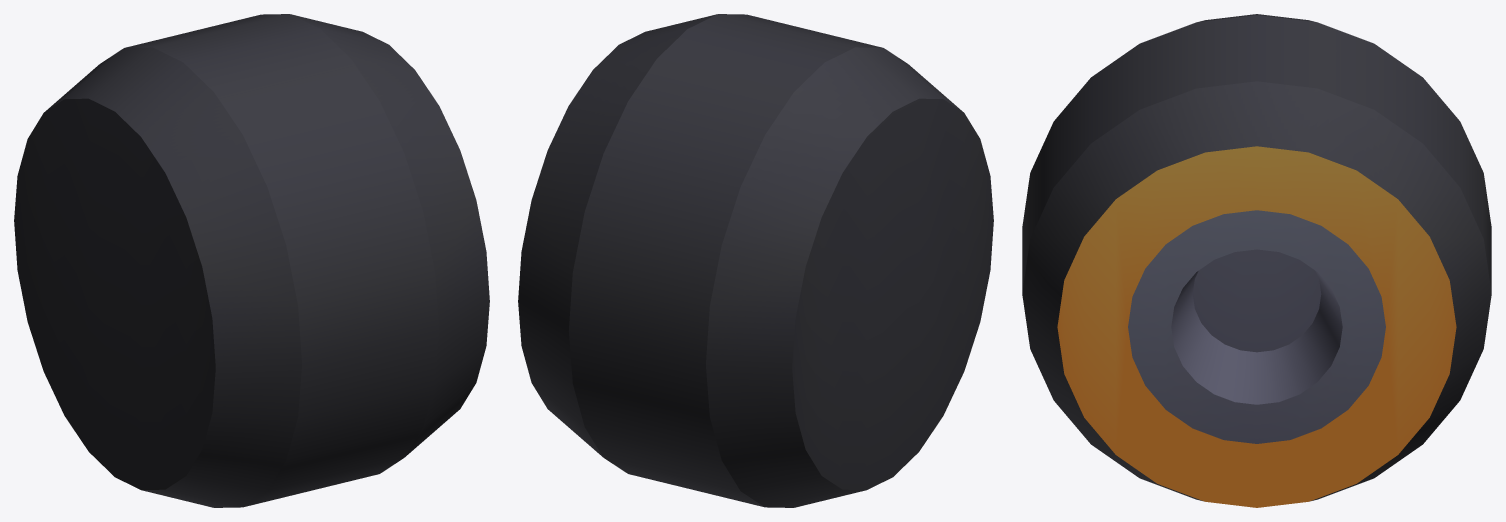
The model's file is wheel-racing.glb.
3 views of the same model, side by side, from view 1: azimuth 30°, elevation 25°; view 2: azimuth 150°, elevation 25°; view 3: azimuth 270°, elevation 25° (orthographic).
Visible parts, largest first — view 1: wheel-racing-2; view 2: wheel-racing-2; view 3: wheel-racing-2.
Boxes of the visible parts, x1,y1,x2,y2 form: wheel-racing-2: [14, 14, 489, 507]; wheel-racing-2: [518, 14, 993, 507]; wheel-racing-2: [1022, 14, 1491, 507].
Bounding box in the file's own units: 0.4 × 0.6 × 0.6.
